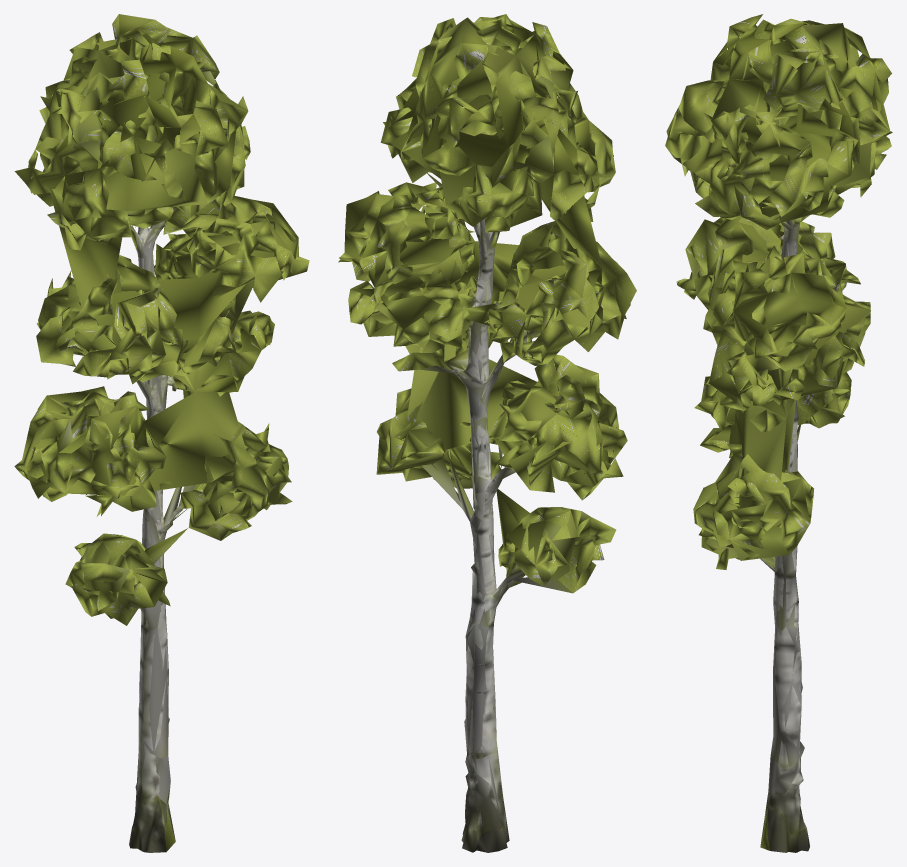
File: abedul.glb
3 views of the same model, side by side, from view 1: azimuth 30°, elevation 25°; view 2: azimuth 150°, elevation 25°; view 3: azimuth 270°, elevation 25° (orthographic).
Visible parts, largest first — view 1: cerca, medio, lejos; view 2: cerca, medio, lejos; view 3: cerca, medio, lejos.
Boxes of the visible parts, x1,y1,x2,y2 form: cerca: (14, 14, 309, 852); medio: (27, 14, 298, 851); lejos: (39, 33, 298, 851); cerca: (338, 14, 636, 852); medio: (344, 17, 621, 852); lejos: (364, 34, 614, 852); cerca: (665, 14, 892, 852); medio: (674, 23, 889, 852); lejos: (666, 20, 873, 852).
Size of the model in its own units: 3.09 by 8.92 by 2.23.
Materials: 2 (1 with a texture image).
